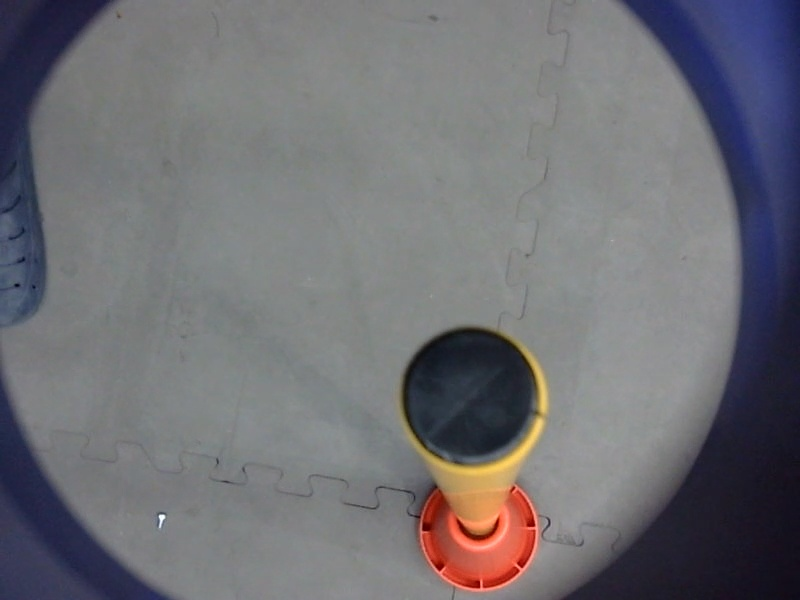tip: (389, 319, 557, 484)
